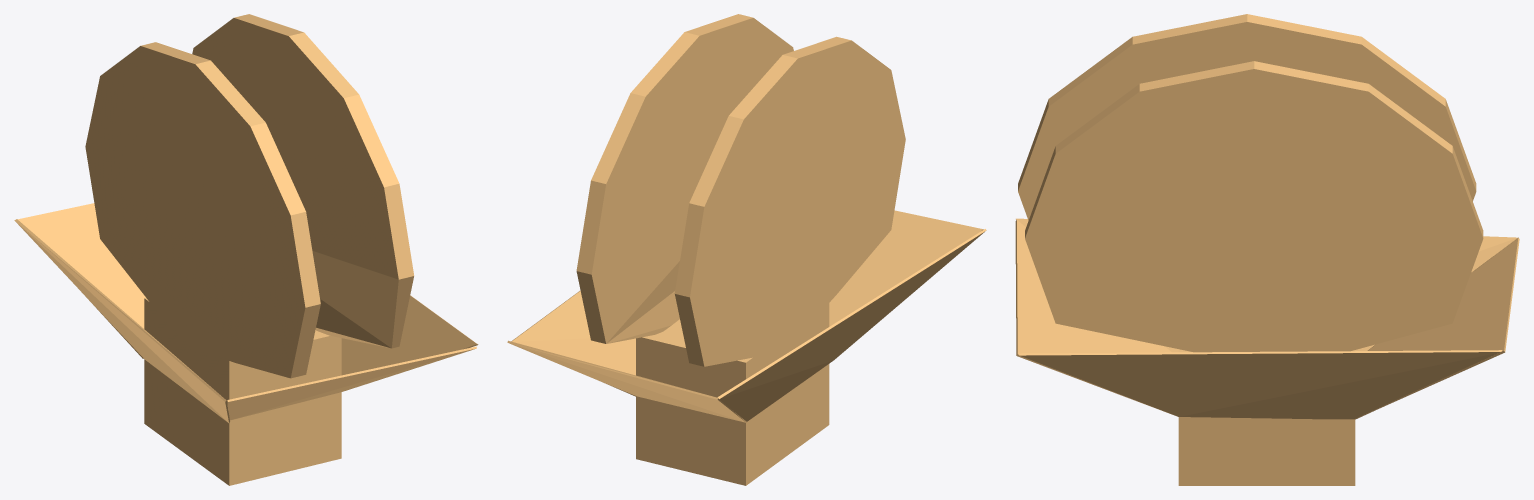
Rendered from model_triangulated.obj.
The picture shows the model from 3 angles, left to right: view 1: azimuth 30°, elevation 25°; view 2: azimuth 150°, elevation 25°; view 3: azimuth 270°, elevation 25°; orthographic projection. The views are drawn at different scales.
Parts seen in each view (by area): view 1: group2080987173, group679462135, group817208922, group51715418, group900788992, group86772562, group321709746; view 2: group2080987173, group679462135, group817208922, group900788992, group321709746, group86772562, group51715418; view 3: group679462135, group86772562, group2080987173, group817208922, group51715418, group321709746, group900788992.
Part boxes in pixels (box(x1,y1,x2,y2)): group2080987173: box(85, 42, 320, 378); group679462135: box(192, 14, 414, 348); group817208922: box(144, 298, 341, 485); group51715418: box(18, 203, 145, 358); group900788992: box(14, 219, 229, 422); group86772562: box(341, 295, 478, 375); group321709746: box(227, 346, 476, 420); group2080987173: box(674, 36, 905, 366); group679462135: box(576, 14, 793, 343); group817208922: box(636, 303, 829, 485); group900788992: box(717, 229, 986, 421); group321709746: box(829, 210, 983, 326); group86772562: box(511, 290, 636, 396); group51715418: box(507, 340, 746, 422); group679462135: box(1025, 61, 1483, 352); group86772562: box(1019, 350, 1502, 419); group2080987173: box(1018, 14, 1476, 220); group817208922: box(1178, 349, 1355, 485); group51715418: box(1355, 238, 1519, 419); group321709746: box(1015, 220, 1179, 417); group900788992: box(1016, 218, 1518, 352).
Bounding box in the file's own units: 1.32 × 1.97 × 2.17.
